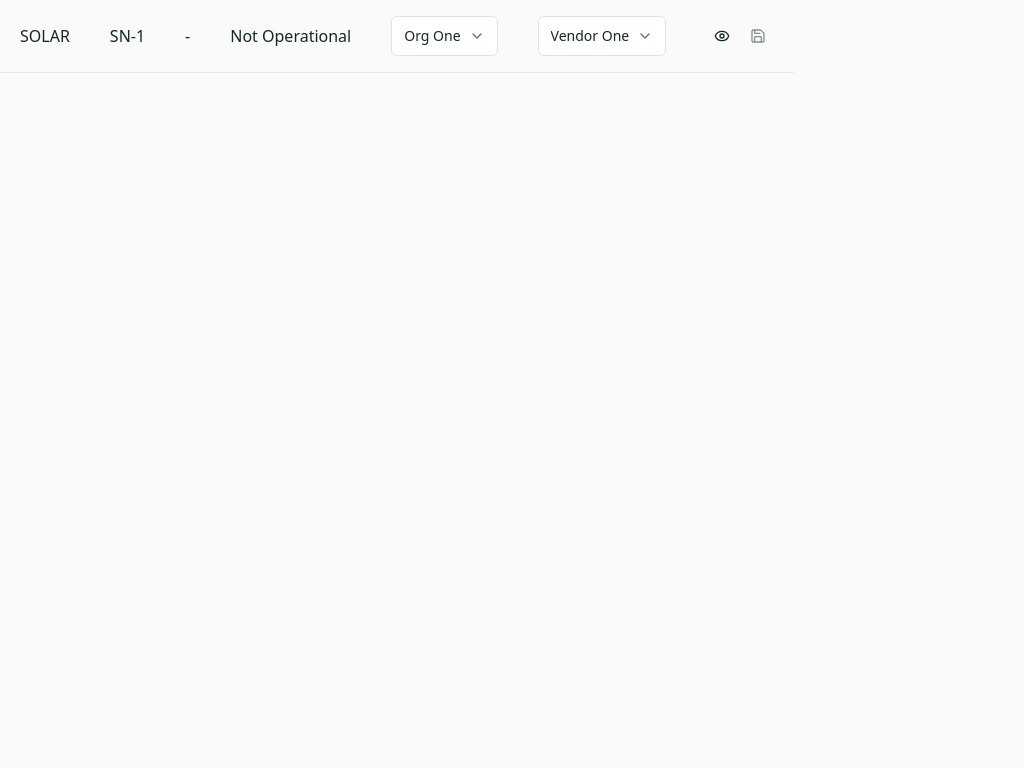
Test: AssetRow › disables Save until a different vendor is actually picked
The image size is (1024, 768).
Expected: the button named "Save" is disabled, [742,20,774,52]
Step 1. Click the button with aria-label "Vendor," → (602, 36), box [538,16,666,56]
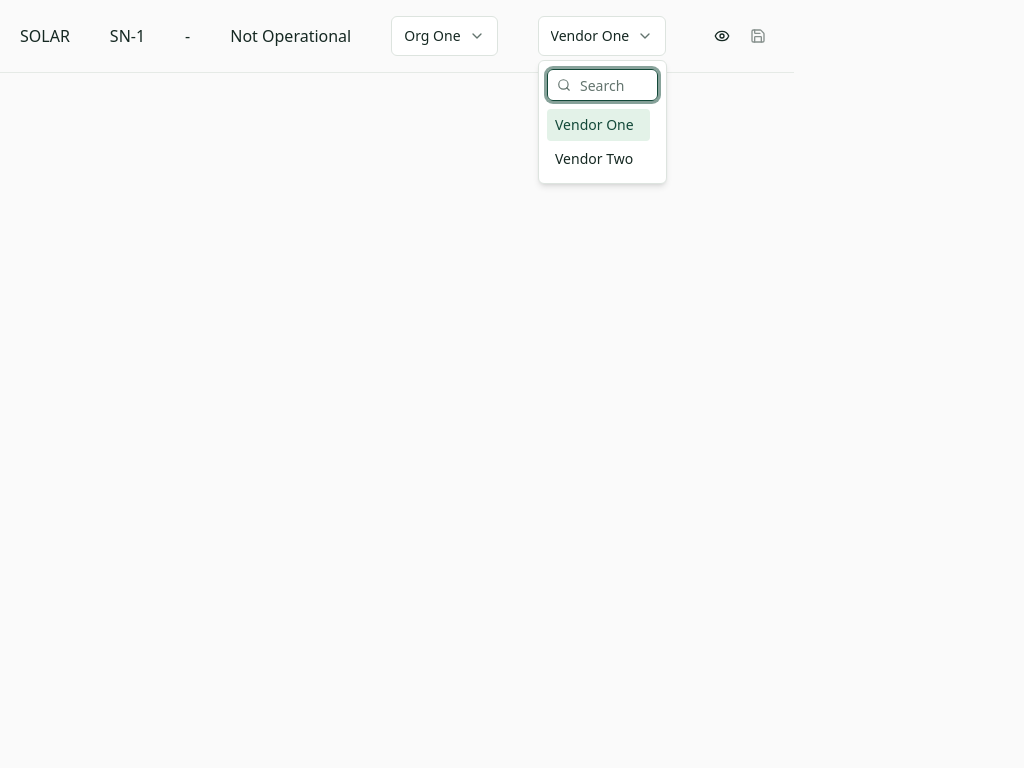
Step 2. Click the button "Vendor Two" → (598, 159), box [547,143,650,175]
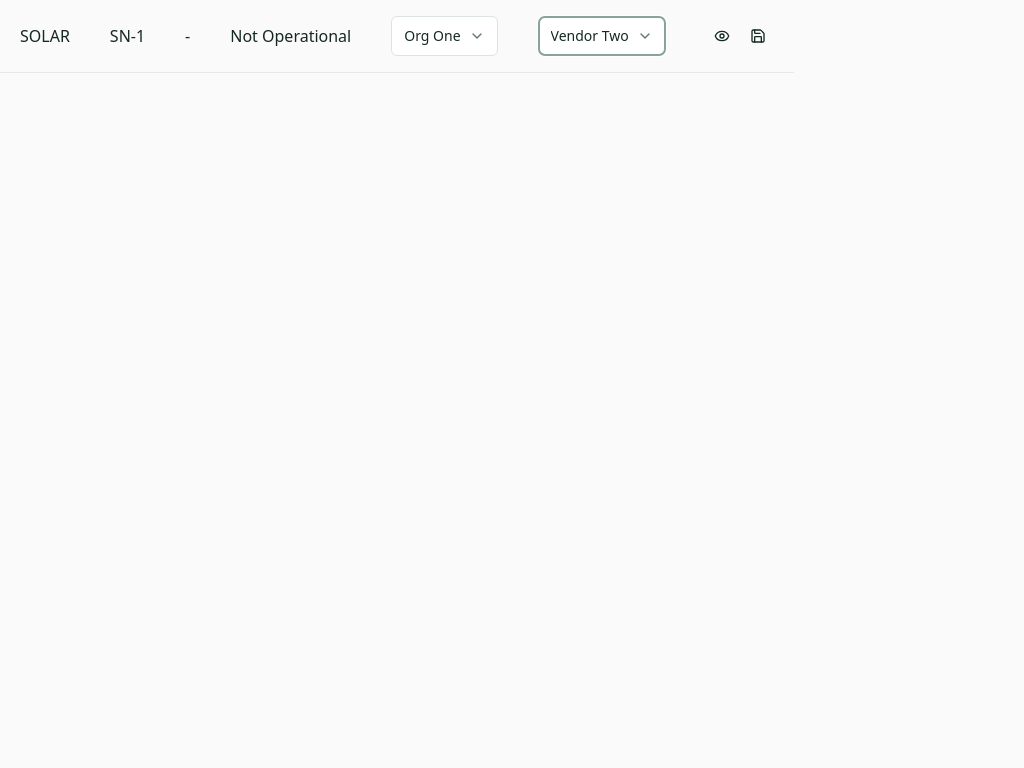
Now the button named "Save" is enabled, box [742,20,774,52]
